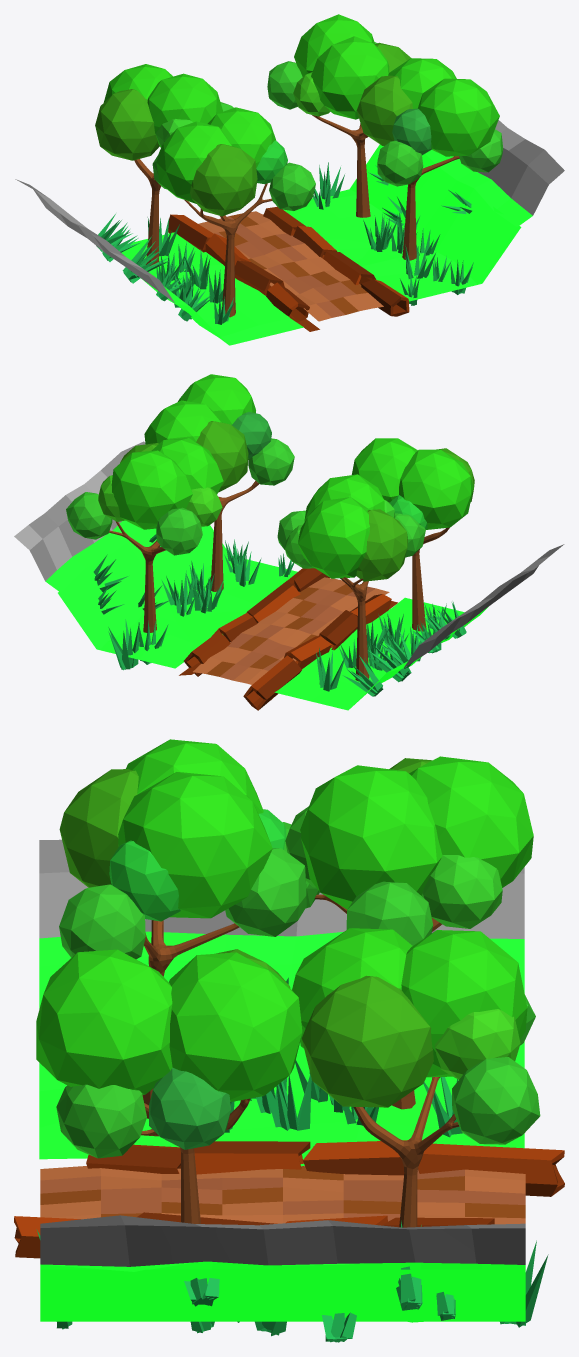
The model's file is maps0.fbx.
The picture shows the model from 3 angles, top to bottom: view 1: azimuth 30°, elevation 25°; view 2: azimuth 150°, elevation 25°; view 3: azimuth 270°, elevation 25°; orthographic projection. The views are drawn at different scales.
Parts seen in each view (by area): view 1: environment, road; view 2: environment, road; view 3: environment, road.
Part boxes in pixels (bbox=[...]): environment: bbox=[15, 14, 564, 345]; road: bbox=[198, 211, 383, 321]; environment: bbox=[14, 374, 564, 710]; road: bbox=[193, 577, 389, 684]; environment: bbox=[14, 739, 564, 1342]; road: bbox=[40, 1166, 525, 1224].
Size of the model in its own units: 3775 by 1756 by 2271.
